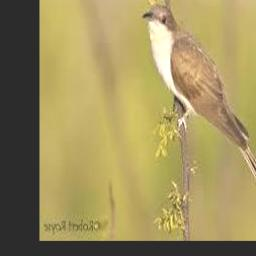Cuckoo: (143, 5, 256, 213)
